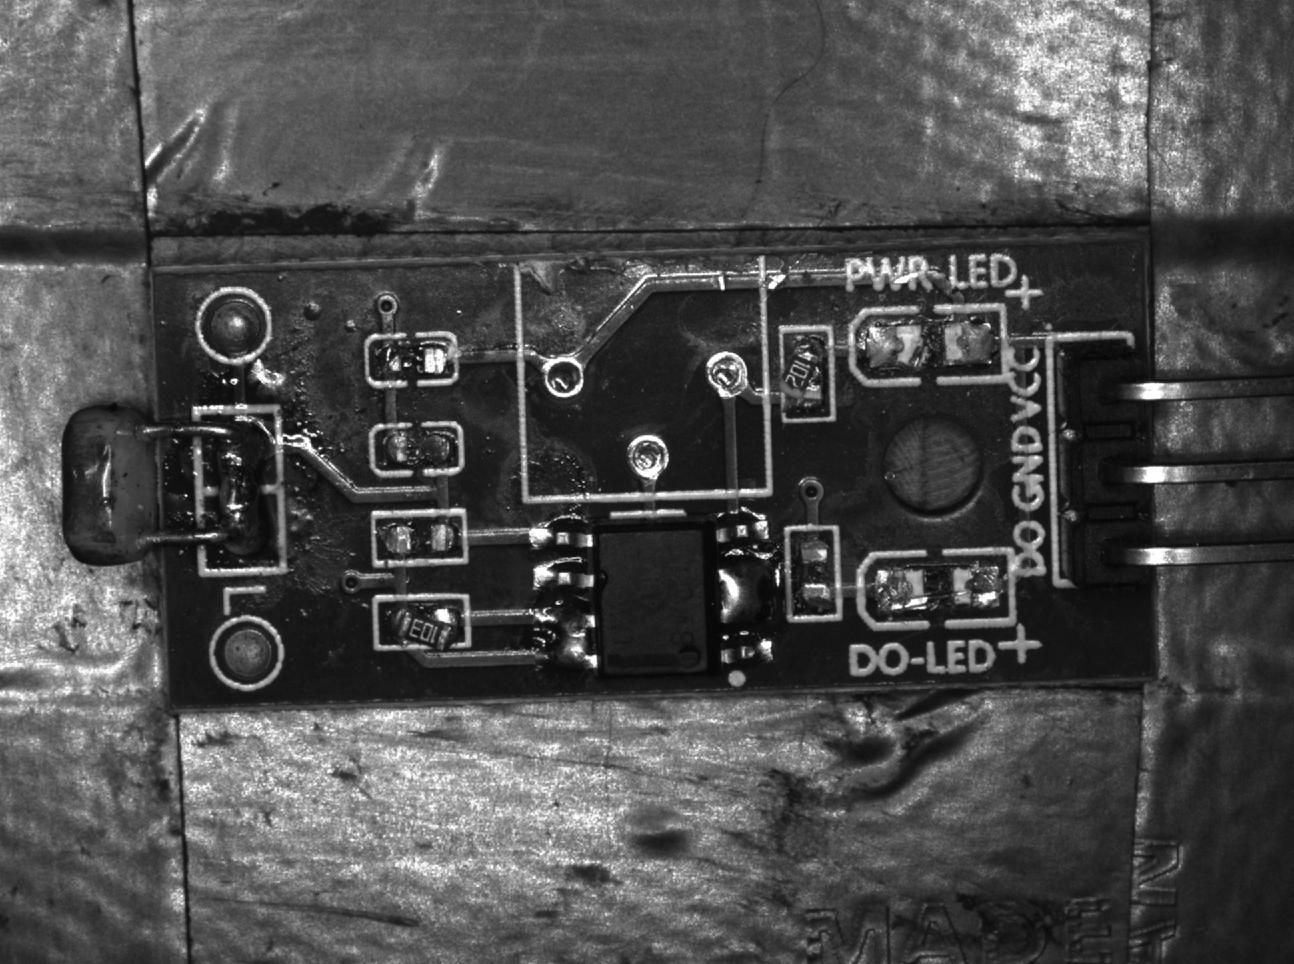bridge: (195, 409, 282, 575), (714, 552, 779, 630), (532, 609, 597, 675)
lifted: (373, 596, 472, 654), (780, 325, 836, 421)
miss: (785, 528, 844, 621), (363, 423, 468, 475), (374, 508, 468, 563), (368, 335, 459, 391)
